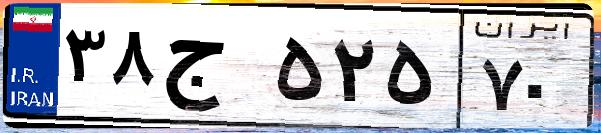0: (525, 38, 570, 115)
2: (330, 28, 385, 110)
3: (57, 26, 110, 100)
5: (270, 28, 330, 110), (385, 28, 445, 110)
7: (475, 38, 525, 113)
8: (110, 28, 158, 98)
ج: (158, 20, 270, 120)
